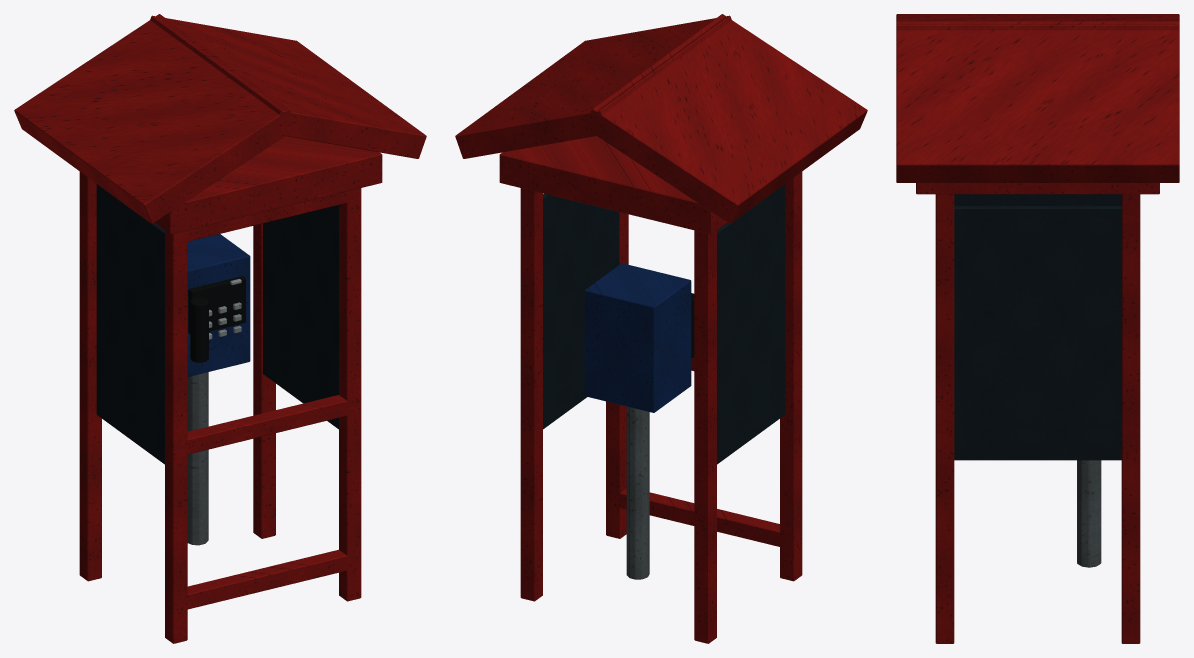
Rendered from PROP-66FA8ACD424A_lod1.glb.
The picture shows the model from 3 angles, left to right: view 1: azimuth 30°, elevation 25°; view 2: azimuth 150°, elevation 25°; view 3: azimuth 270°, elevation 25°; orthographic projection. The views are drawn at different scales.
Parts seen in each view (by area): view 1: pagoda_roof_wings.001, booth_posts.001, booth_glazing.001, booth_roof.001, booth_front_rails.001, cabinet.009, fixture_post.004, recessed_front.009, handset.001; view 2: pagoda_roof_wings.001, booth_posts.001, booth_glazing.001, cabinet.009, booth_roof.001, fixture_post.004, booth_front_rails.001; view 3: pagoda_roof_wings.001, booth_glazing.001, booth_posts.001, booth_roof.001, fixture_post.004.
Boxes of the visible parts, x1,y1,x2,y2 form: pagoda_roof_wings.001: (14, 14, 426, 223); booth_posts.001: (79, 171, 361, 643); booth_glazing.001: (96, 184, 338, 464); booth_roof.001: (154, 136, 382, 234); booth_front_rails.001: (175, 188, 359, 611); cabinet.009: (187, 234, 250, 376); fixture_post.004: (187, 372, 208, 545); recessed_front.009: (188, 276, 245, 333); handset.001: (190, 297, 208, 362); pagoda_roof_wings.001: (455, 14, 867, 223); booth_posts.001: (520, 171, 802, 643); booth_glazing.001: (543, 184, 785, 464); cabinet.009: (584, 263, 691, 412); booth_roof.001: (499, 136, 727, 234); fixture_post.004: (626, 406, 649, 579); booth_front_rails.001: (618, 179, 791, 546); pagoda_roof_wings.001: (896, 14, 1179, 182); booth_glazing.001: (954, 194, 1121, 460); booth_posts.001: (935, 194, 1140, 643); booth_roof.001: (916, 183, 1159, 194); fixture_post.004: (1077, 460, 1101, 567).
Size of the model in its own units: 1.53 by 2.71 by 1.22.
6 materials, 6 textured.
